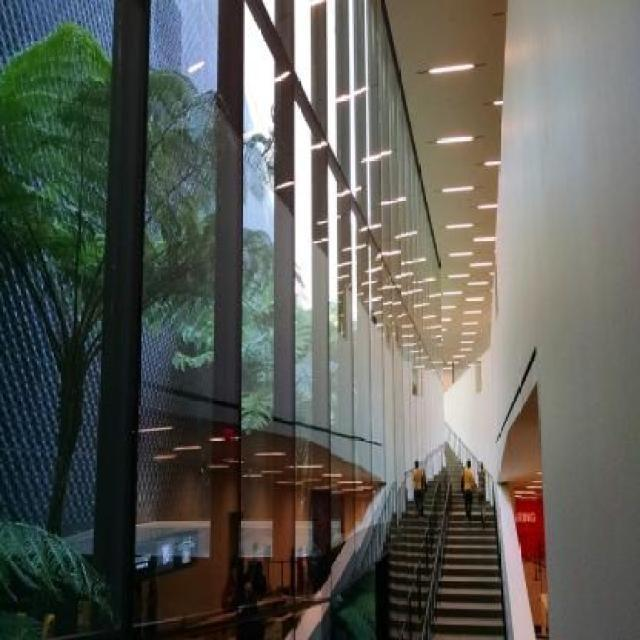stair: (428, 432, 510, 640)
